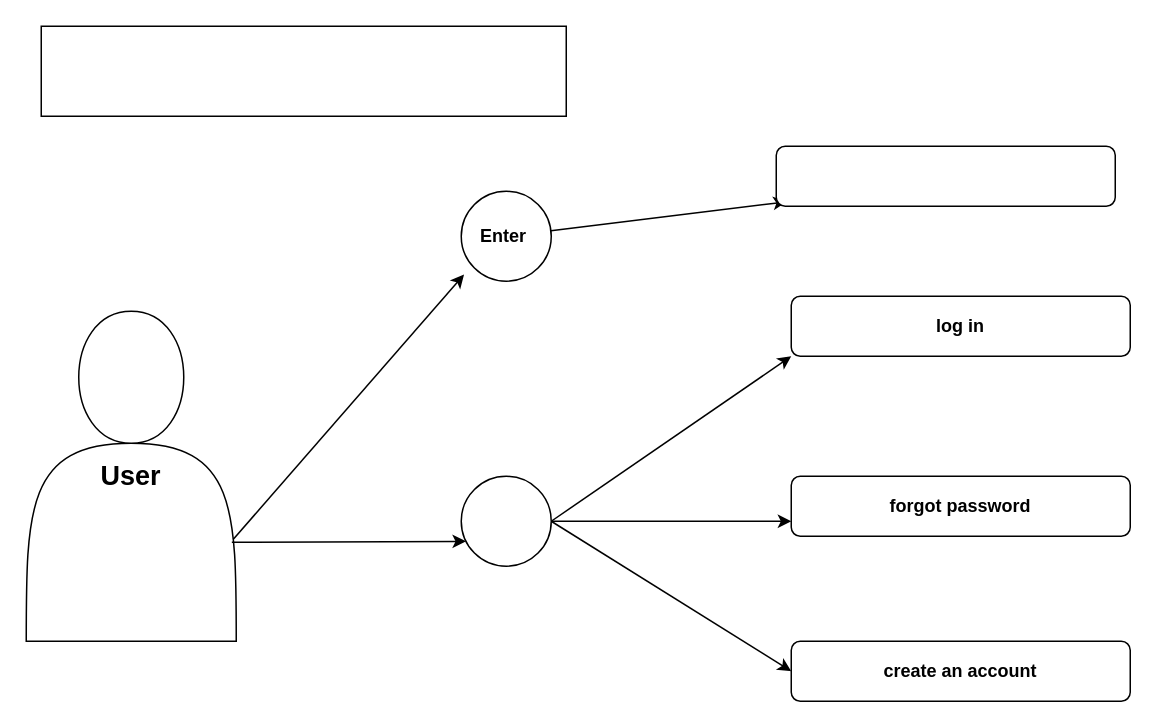
This 1157x728 diagram has some shape labels left out. Each missing label, with the box of its shape:
Click: (460, 475, 551, 566)
Login-page: (40, 25, 566, 116)
username and password: (775, 145, 1115, 206)
